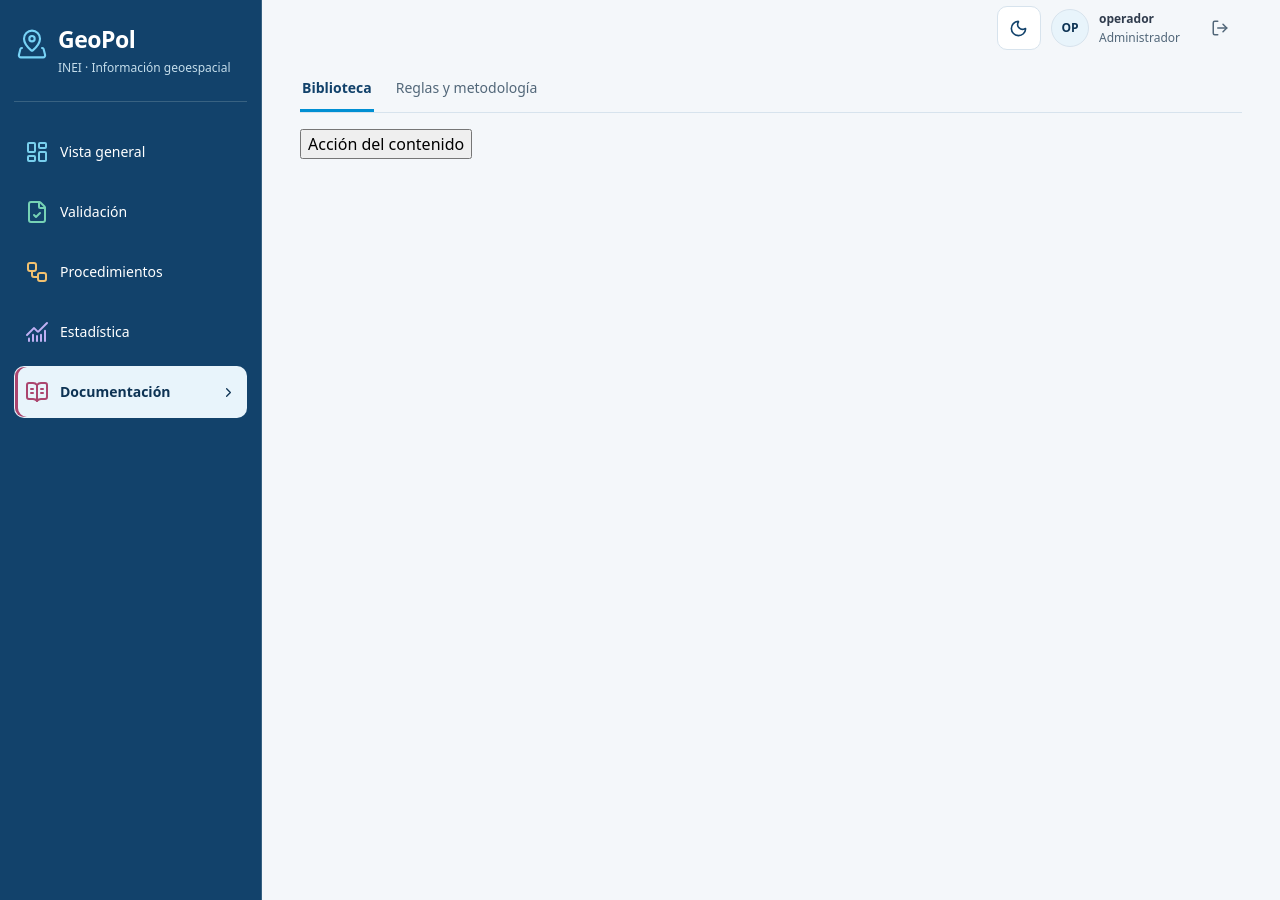
Test case: Navegación del espacio de trabajo › mantiene el control de tema disponible en la cabecera móvil sin abrir el menú
Click the button named "Activar tema oscuro".
click(1019, 28)  # box [997, 6, 1041, 50]
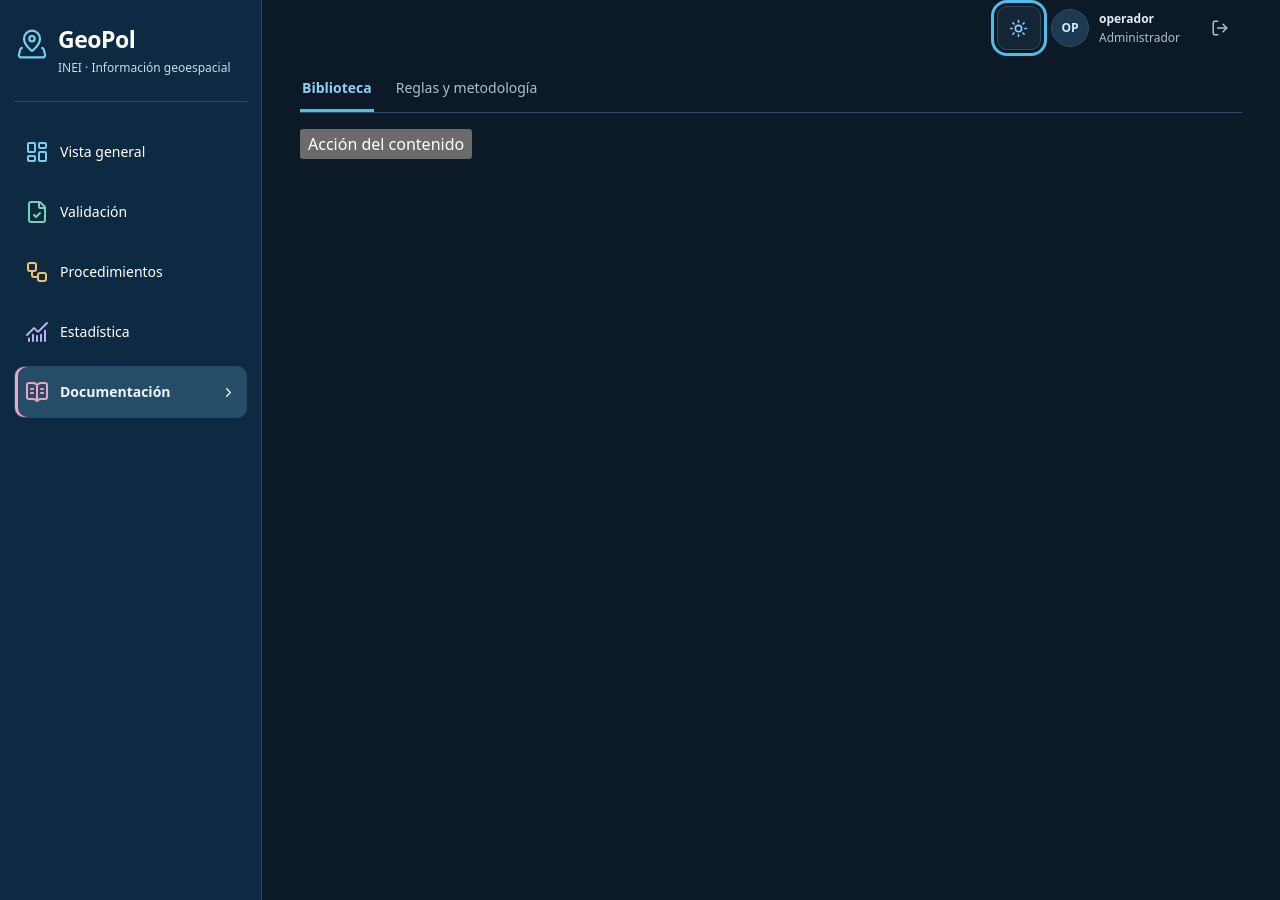
Expected: the button named "Activar tema claro" is shown, [997, 6, 1041, 50]
